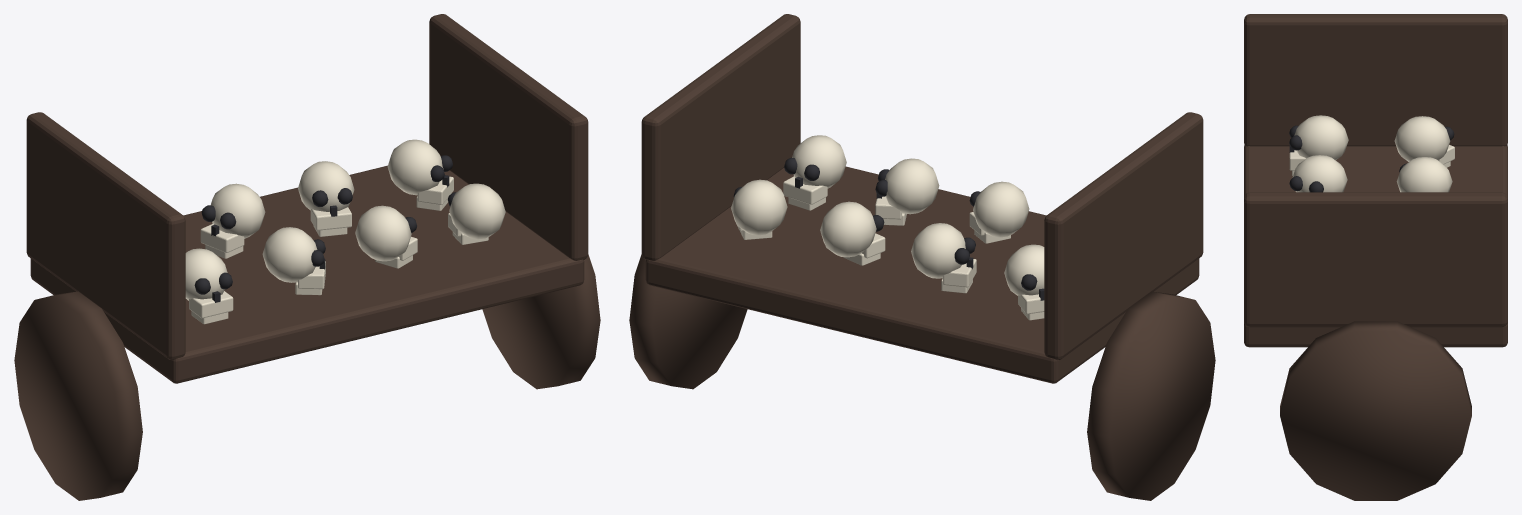
File: bone_heap_ossuary_cart.glb
3 renders of one model, left to right at view 1: azimuth 30°, elevation 25°; view 2: azimuth 150°, elevation 25°; view 3: azimuth 270°, elevation 25°, orthographic. The views are drawn at different scales.
Visible parts, largest first — view 1: GD_bone_heap_ossuary_cart__m0, GD_bone_heap_ossuary_cart__m1, GD_bone_heap_ossuary_cart__m3; view 2: GD_bone_heap_ossuary_cart__m0, GD_bone_heap_ossuary_cart__m1, GD_bone_heap_ossuary_cart__m3; view 3: GD_bone_heap_ossuary_cart__m0, GD_bone_heap_ossuary_cart__m1, GD_bone_heap_ossuary_cart__m3.
Boxes of the visible parts, x1,y1,x2,y2 form: GD_bone_heap_ossuary_cart__m0: (14,14,600,500); GD_bone_heap_ossuary_cart__m1: (185,139,505,324); GD_bone_heap_ossuary_cart__m3: (194,155,455,302); GD_bone_heap_ossuary_cart__m0: (629,14,1215,500); GD_bone_heap_ossuary_cart__m1: (731,135,1044,320); GD_bone_heap_ossuary_cart__m3: (733,157,1044,300); GD_bone_heap_ossuary_cart__m0: (1244,14,1507,500); GD_bone_heap_ossuary_cart__m1: (1289,115,1454,192); GD_bone_heap_ossuary_cart__m3: (1289,125,1454,192).
Size of the model in its own units: 1.05 by 0.665 by 0.55.
